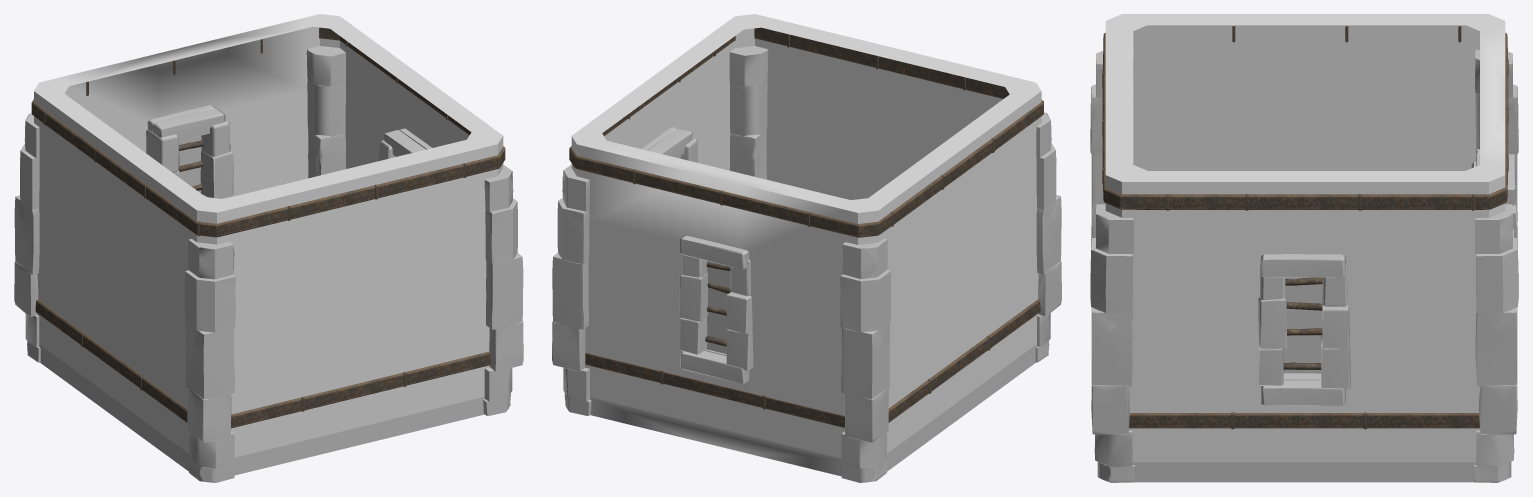
3 views of the same model, side by side, from view 1: azimuth 30°, elevation 25°; view 2: azimuth 150°, elevation 25°; view 3: azimuth 270°, elevation 25° (orthographic). The views are drawn at different scales.
Parts seen in each view (by area): view 1: SM_Dowdun_Tower_Base_12x12_01_LOD0; view 2: SM_Dowdun_Tower_Base_12x12_01_LOD0; view 3: SM_Dowdun_Tower_Base_12x12_01_LOD0.
Part boxes in pixels (<box>): SM_Dowdun_Tower_Base_12x12_01_LOD0: <box>14,14,523,482</box>; SM_Dowdun_Tower_Base_12x12_01_LOD0: <box>552,14,1061,482</box>; SM_Dowdun_Tower_Base_12x12_01_LOD0: <box>1090,14,1518,482</box>.
Bounding box in the file's own units: 12.73 × 10 × 12.93.
